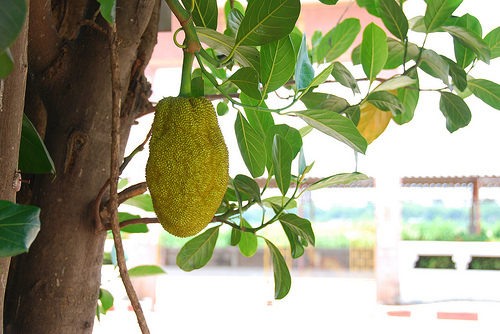jackfruit: (147, 96, 229, 237)
